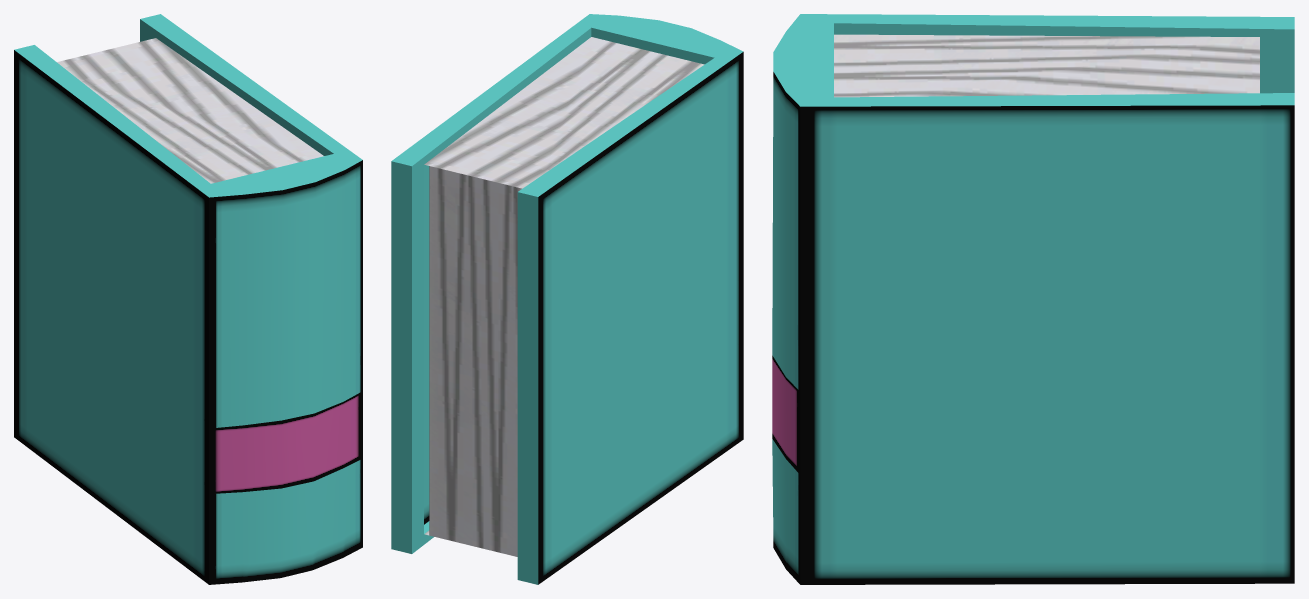
File: Book_Blue_Individual.fbx
The picture shows the model from 3 angles, left to right: view 1: azimuth 30°, elevation 25°; view 2: azimuth 150°, elevation 25°; view 3: azimuth 270°, elevation 25°; orthographic projection. The views are drawn at different scales.
Parts seen in each view (by area): view 1: Book1; view 2: Book1; view 3: Book1.
Part boxes in pixels (x1=…): Book1: x1=14, y1=14, x2=362, y2=584; Book1: x1=391, y1=14, x2=743, y2=584; Book1: x1=772, y1=14, x2=1294, y2=584.
Bounding box in the file's own units: 12.94 × 31.14 × 30.82.
